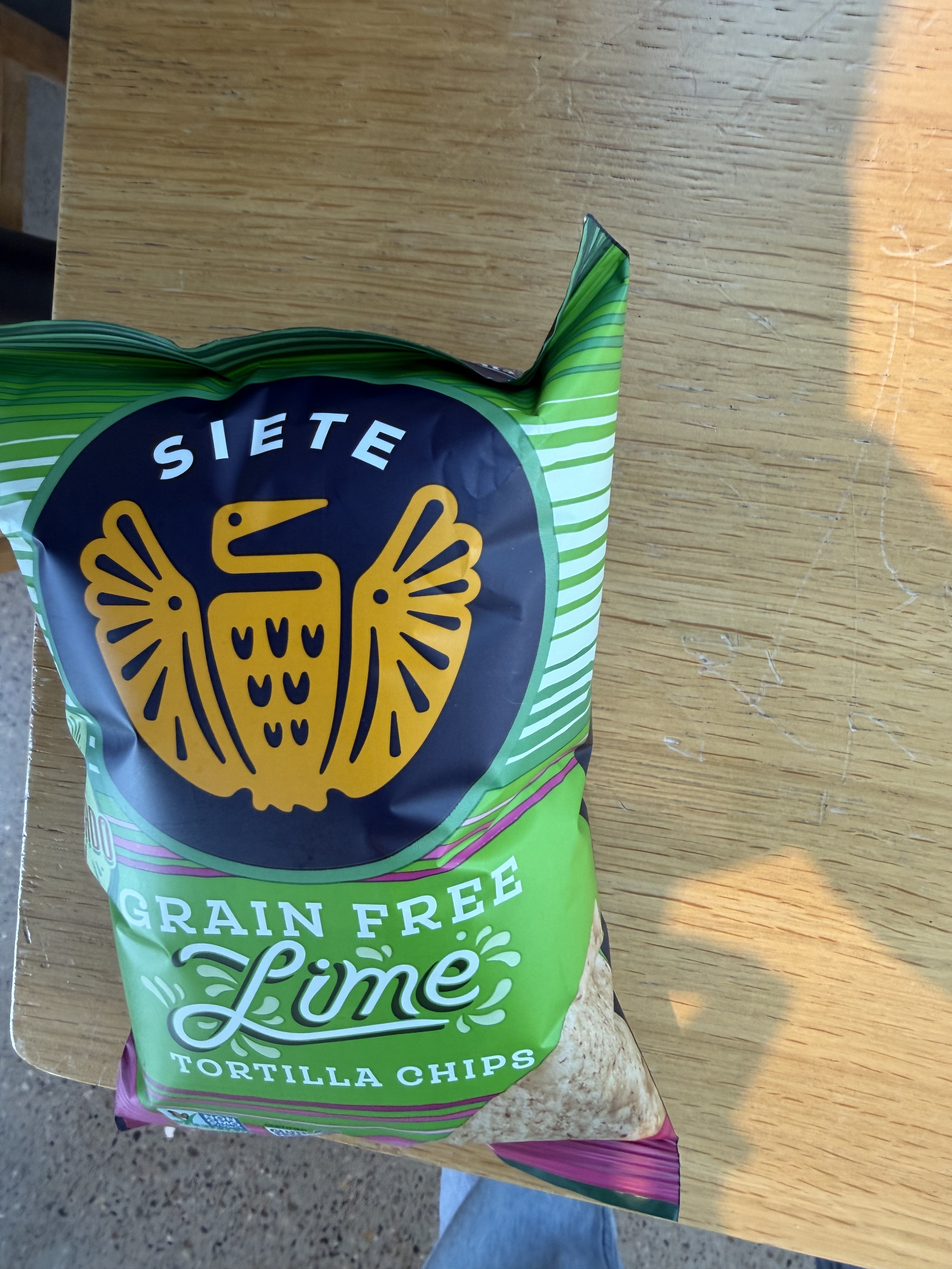lime: (12, 268, 725, 1225)
